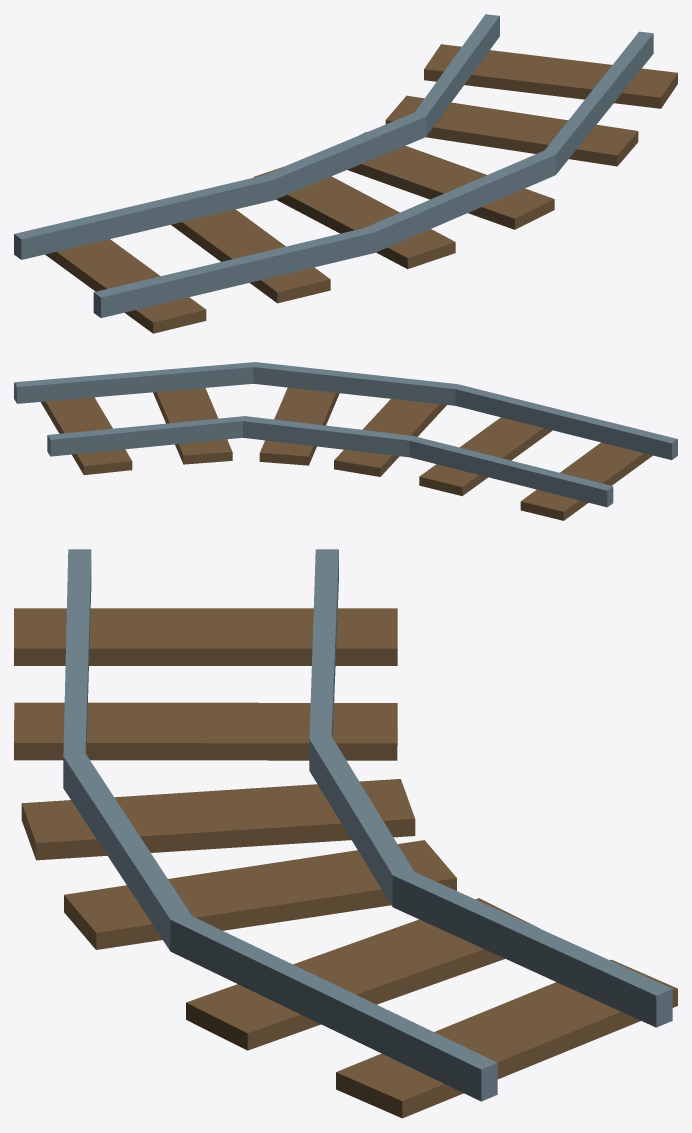
File: Rail-D01.fbx
3 views of the same model, one above another, from view 1: azimuth 30°, elevation 25°; view 2: azimuth 150°, elevation 25°; view 3: azimuth 270°, elevation 25° (orthographic). The views are drawn at different scales.
Parts seen in each view (by area): view 1: Rail-D01; view 2: Rail-D01; view 3: Rail-D01.
Part boxes in pixels (bbox=[...]): Rail-D01: bbox=[14, 14, 677, 333]; Rail-D01: bbox=[14, 362, 677, 520]; Rail-D01: bbox=[14, 549, 677, 1118].
Bounding box in the file's own units: 632 × 28.05 × 341.
